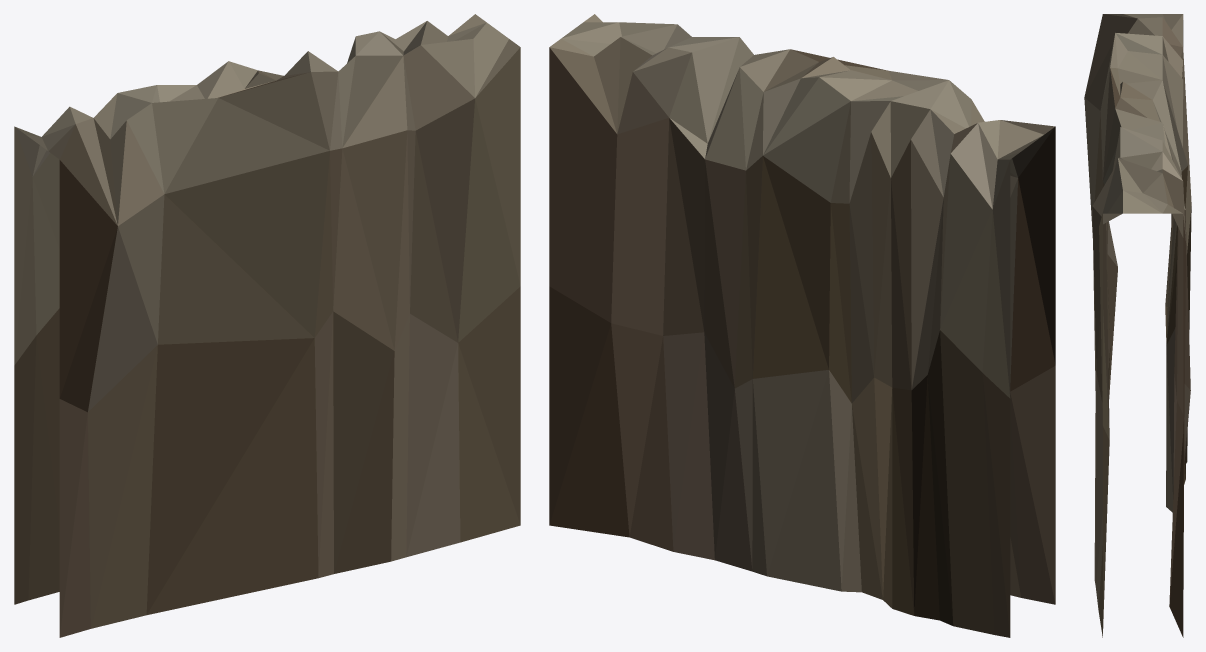
Rendered from Wall_CutLog-2m.fbx.
The picture shows the model from 3 angles, left to right: view 1: azimuth 30°, elevation 25°; view 2: azimuth 150°, elevation 25°; view 3: azimuth 270°, elevation 25°; orthographic projection. The views are drawn at different scales.
Parts seen in each view (by area): view 1: Wall_CutLog-2m; view 2: Wall_CutLog-2m; view 3: Wall_CutLog-2m.
Boxes of the visible parts, x1=… form: Wall_CutLog-2m: x1=14, y1=14, x2=520, y2=637; Wall_CutLog-2m: x1=549, y1=14, x2=1055, y2=637; Wall_CutLog-2m: x1=1084, y1=14, x2=1191, y2=637.
Size of the model in its own units: 200 by 210 by 45.44.
